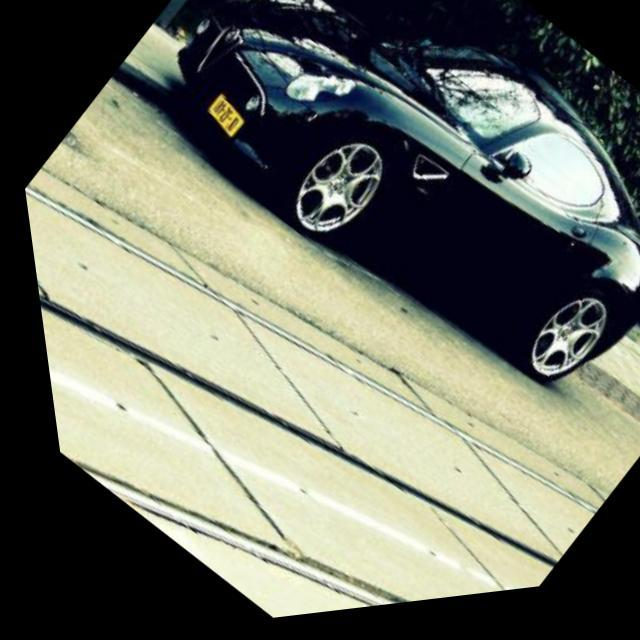license_plate: (195, 95, 247, 146)
